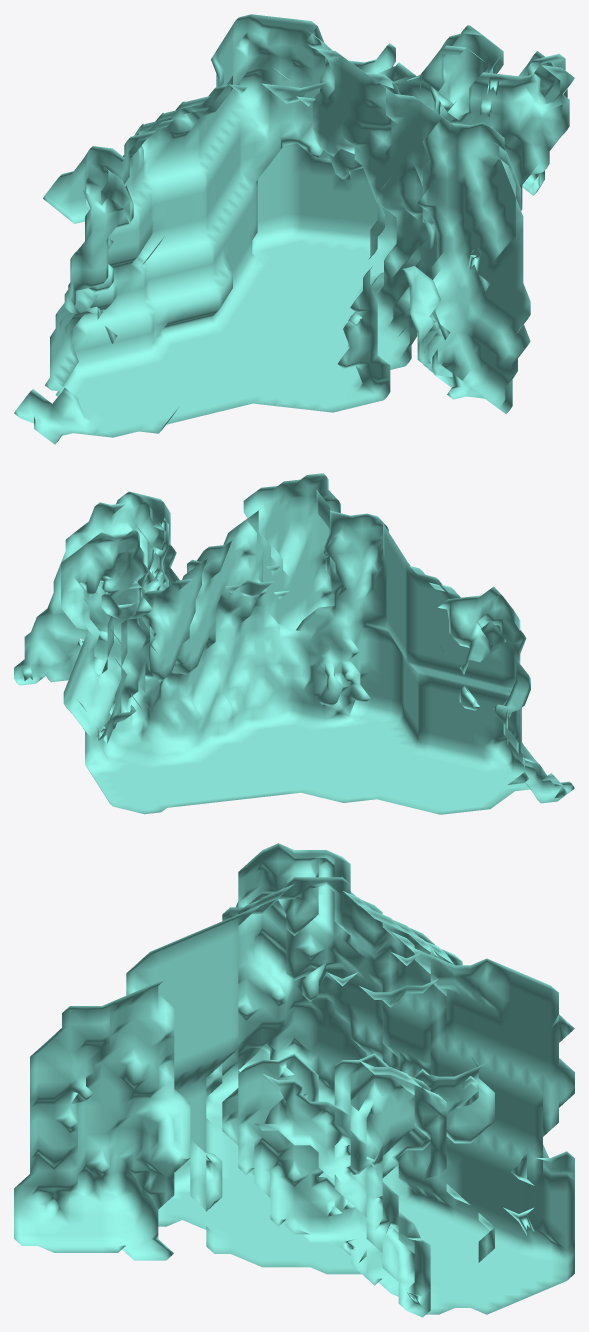
File: osteocyte_16.glb
3 views of the same model, one above another, from view 1: azimuth 30°, elevation 25°; view 2: azimuth 150°, elevation 25°; view 3: azimuth 270°, elevation 25° (orthographic). The views are drawn at different scales.
Visible parts, largest first — view 1: osteocyte_16; view 2: osteocyte_16; view 3: osteocyte_16.
Boxes of the visible parts, bbox=[...] form: osteocyte_16: bbox=[14, 14, 574, 444]; osteocyte_16: bbox=[14, 473, 574, 814]; osteocyte_16: bbox=[14, 843, 574, 1317].
Size of the model in its own units: 21.01 by 8.05 by 15.65.
